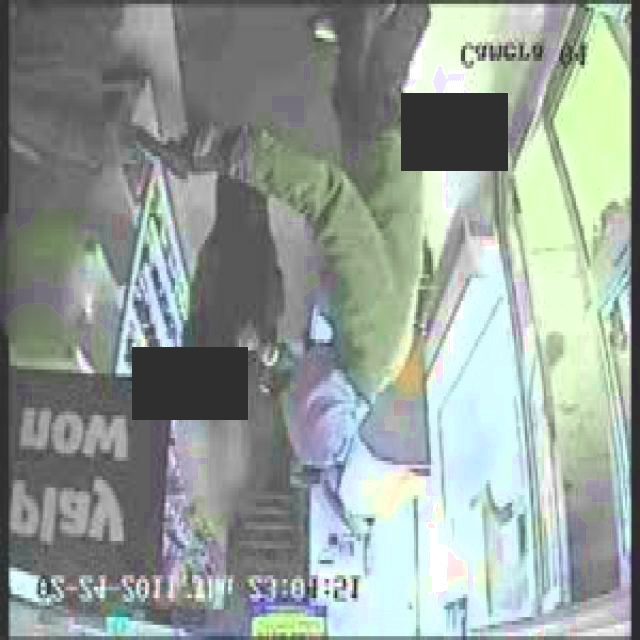gun: (136, 110, 215, 190)
